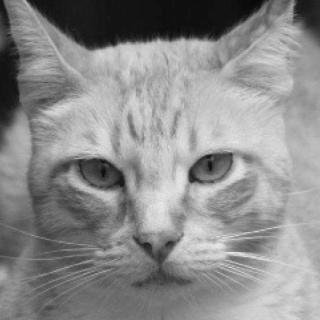cat: (6, 0, 300, 313)
nose: (130, 217, 188, 268)
